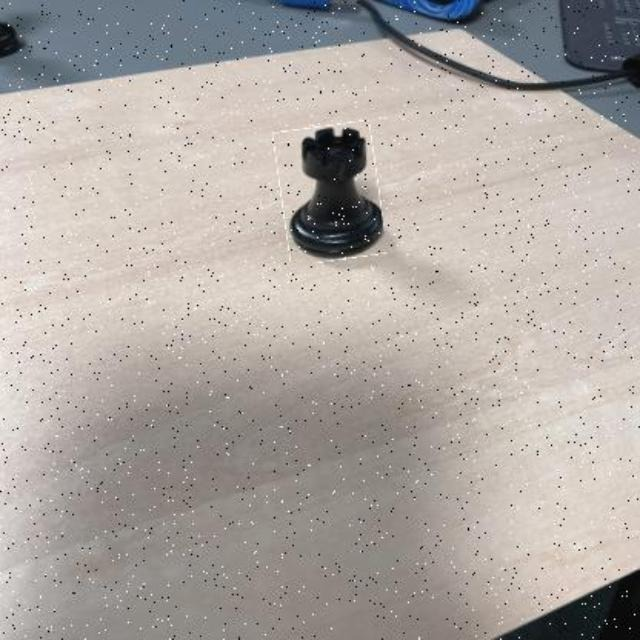black-rook: (277, 124, 383, 262)
